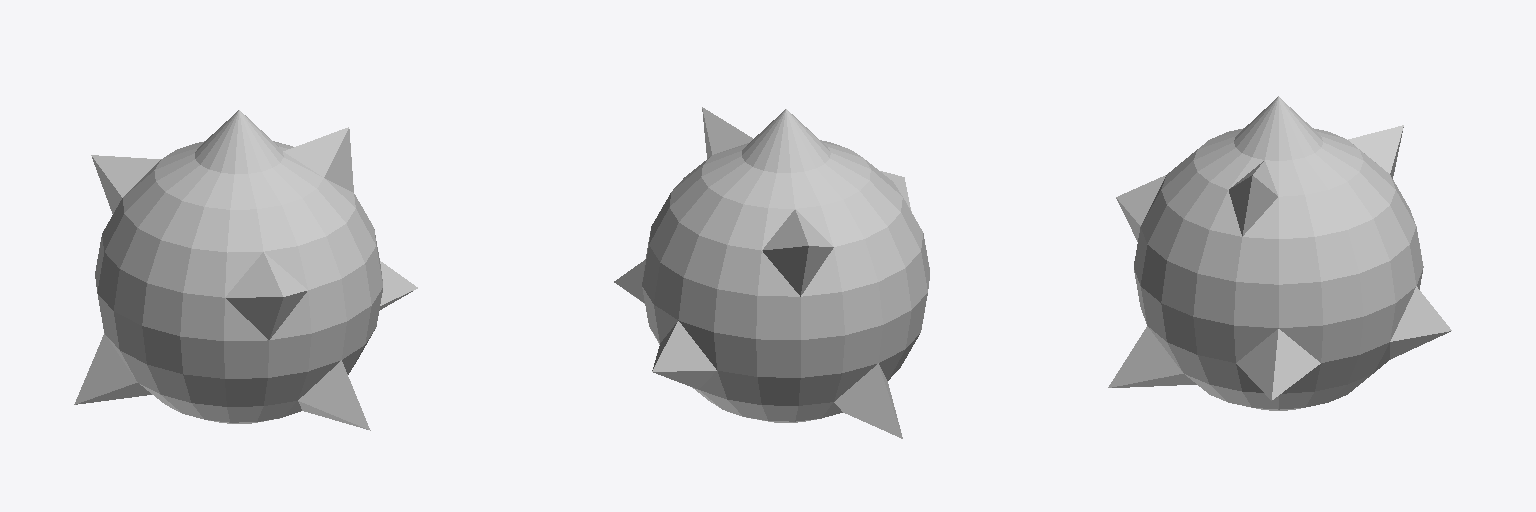
File: bahamut_bless_3.obj
3 renders of one model, left to right at view 1: azimuth 30°, elevation 25°; view 2: azimuth 150°, elevation 25°; view 3: azimuth 270°, elevation 25°, orthographic.
Bounding box in the file's own units: 1.18 × 1.07 × 1.11.